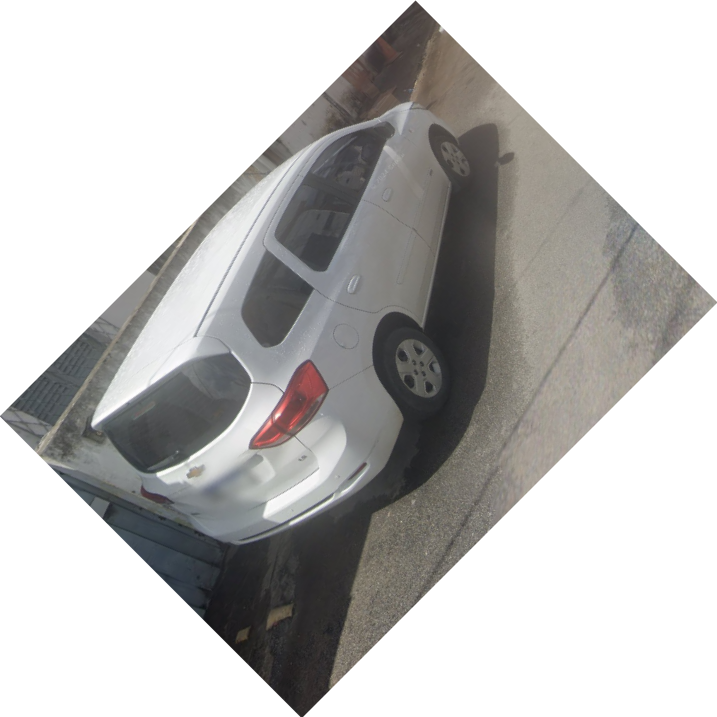car: (86, 96, 482, 546)
